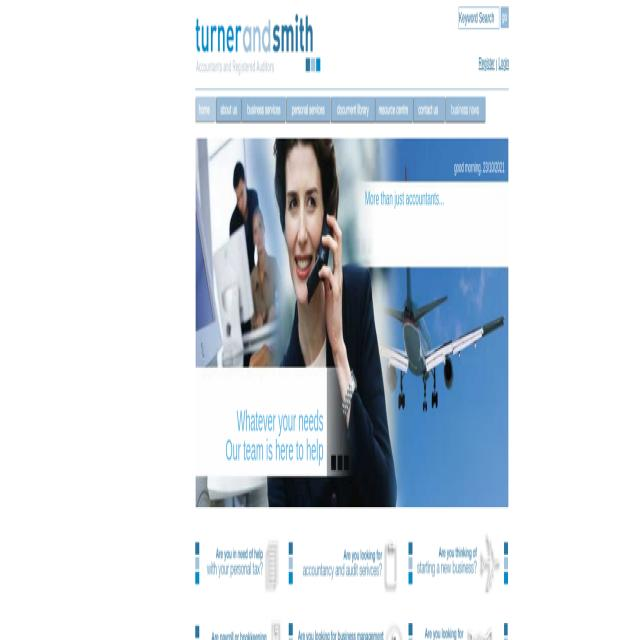button: (196, 6, 320, 80), (241, 93, 286, 121), (330, 96, 375, 124), (286, 96, 330, 124), (445, 96, 486, 124), (375, 95, 413, 123), (413, 96, 445, 124), (216, 96, 242, 124), (196, 96, 216, 124), (501, 6, 508, 28)
field: (458, 7, 499, 30)
